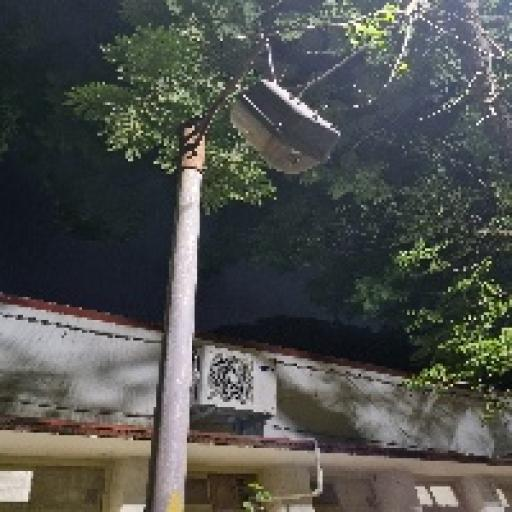Not Working: (200, 76, 352, 189)
